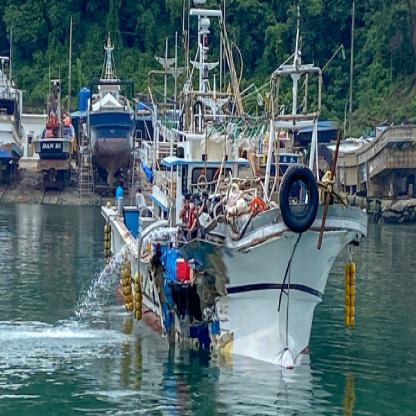fish-b: (98, 78, 374, 379)
